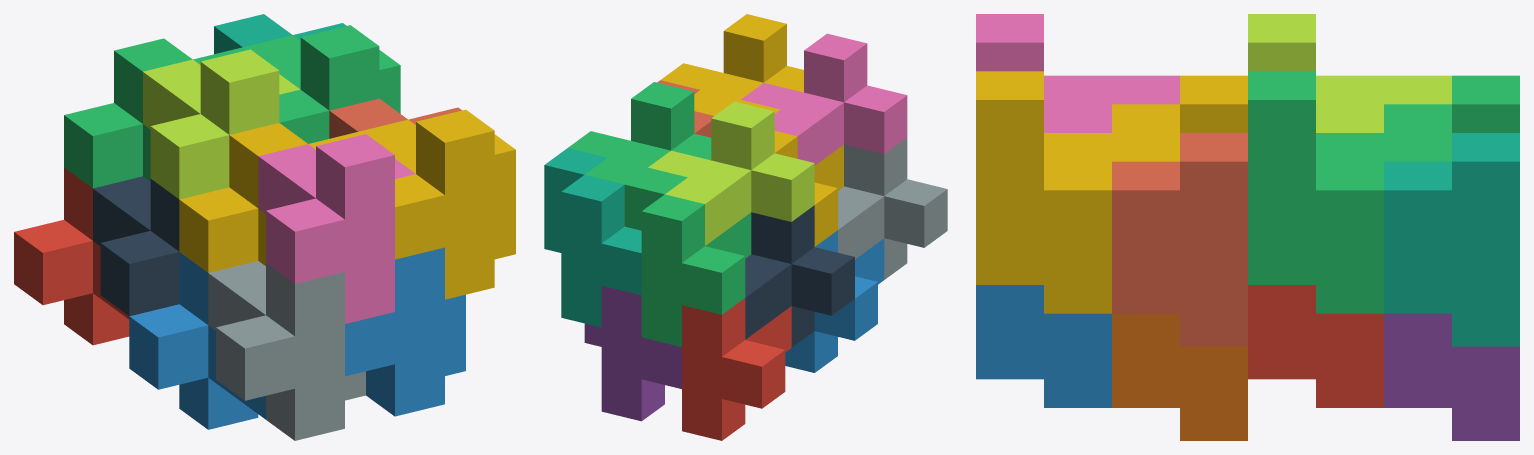
The model's file is tiling.obj.
The picture shows the model from 3 angles, left to right: view 1: azimuth 30°, elevation 25°; view 2: azimuth 150°, elevation 25°; view 3: azimuth 270°, elevation 25°; orthographic projection. The views are drawn at different scales.
Parts seen in each view (by area): view 1: copy_2_domain_4, copy_2_domain_2, copy_2_domain_8, copy_2_domain_3, copy_2_domain_6, copy_1_domain_2, copy_2_domain_1, copy_2_domain_7, copy_1_domain_1, copy_1_domain_4, copy_1_domain_3, copy_1_domain_8 (+1 smaller); view 2: copy_1_domain_3, copy_1_domain_7, copy_2_domain_3, copy_2_domain_4, copy_1_domain_1, copy_2_domain_1, copy_2_domain_2, copy_1_domain_5, copy_2_domain_7, copy_2_domain_8, copy_1_domain_2, copy_1_domain_4 (+1 smaller); view 3: copy_2_domain_7, copy_2_domain_8, copy_1_domain_7, copy_1_domain_8, copy_1_domain_5, copy_1_domain_6, copy_2_domain_5, copy_2_domain_6, copy_2_domain_3, copy_2_domain_4, copy_1_domain_3, copy_1_domain_4.
Part boxes in pixels (left/top/right/bottom): copy_2_domain_4: left=258, top=134, right=415, bottom=323; copy_2_domain_2: left=208, top=261, right=365, bottom=440; copy_2_domain_8: left=358, top=109, right=515, bottom=299; copy_2_domain_3: left=143, top=49, right=299, bottom=199; copy_2_domain_6: left=345, top=247, right=465, bottom=416; copy_1_domain_2: left=129, top=252, right=265, bottom=429; copy_2_domain_1: left=93, top=176, right=179, bottom=316; copy_2_domain_7: left=243, top=25, right=400, bottom=143; copy_1_domain_1: left=14, top=167, right=129, bottom=345; copy_1_domain_4: left=179, top=123, right=361, bottom=272; copy_1_domain_3: left=64, top=38, right=246, bottom=188; copy_1_domain_8: left=329, top=98, right=461, bottom=138; copy_1_domain_3: left=624, top=167, right=751, bottom=346; copy_1_domain_7: left=544, top=148, right=641, bottom=327; copy_2_domain_3: left=648, top=101, right=814, bottom=245; copy_2_domain_4: left=741, top=33, right=907, bottom=165; copy_1_domain_1: left=682, top=298, right=791, bottom=440; copy_2_domain_1: left=745, top=205, right=854, bottom=347; copy_2_domain_2: left=838, top=137, right=947, bottom=279; copy_1_domain_5: left=584, top=285, right=681, bottom=421; copy_2_domain_7: left=568, top=82, right=711, bottom=184; copy_2_domain_8: left=660, top=14, right=803, bottom=115; copy_1_domain_2: left=785, top=230, right=884, bottom=372; copy_1_domain_4: left=737, top=99, right=843, bottom=246; copy_2_domain_7: left=1248, top=71, right=1451, bottom=313; copy_2_domain_8: left=976, top=71, right=1179, bottom=313; copy_1_domain_7: left=1384, top=133, right=1519, bottom=346; copy_1_domain_8: left=1112, top=133, right=1247, bottom=346; copy_1_domain_5: left=1384, top=313, right=1519, bottom=440; copy_1_domain_6: left=1112, top=313, right=1247, bottom=440; copy_2_domain_5: left=1248, top=285, right=1383, bottom=407; copy_2_domain_6: left=976, top=285, right=1111, bottom=407; copy_2_domain_3: left=1248, top=14, right=1451, bottom=132; copy_2_domain_4: left=976, top=14, right=1179, bottom=132; copy_1_domain_3: left=1384, top=75, right=1519, bottom=132; copy_1_domain_4: left=1112, top=75, right=1247, bottom=132.
Bounding box in the file's own units: 6 × 6 × 8.
